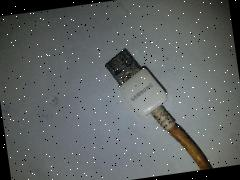electronic: (25, 1, 157, 151)
